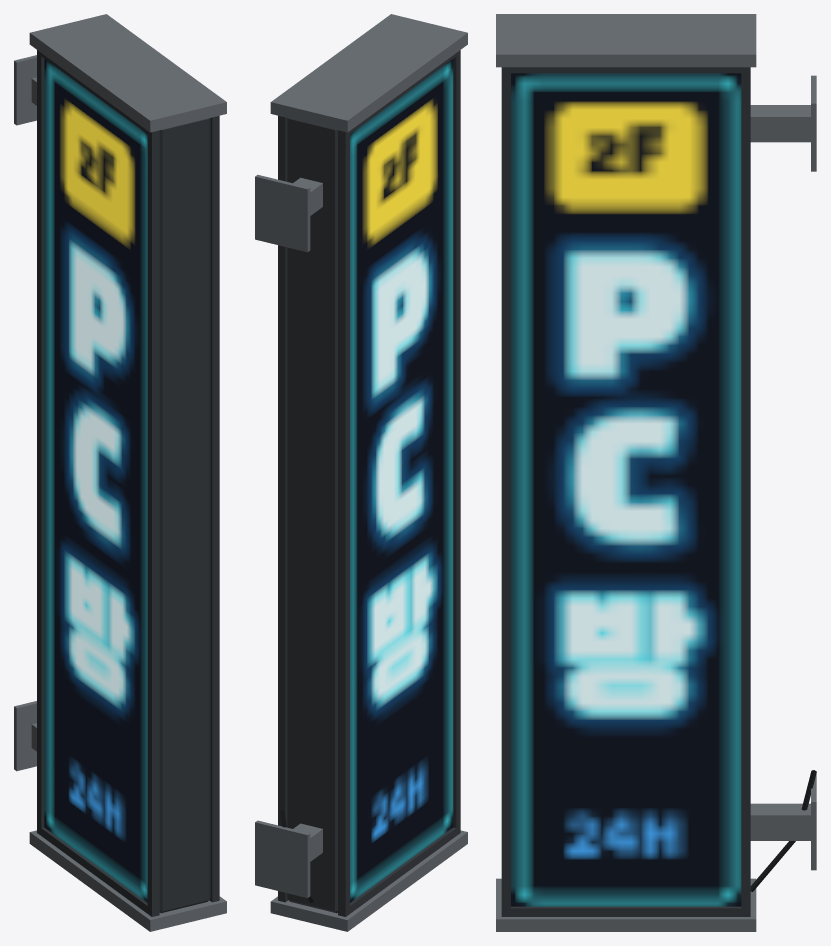
The model's file is SC_Shop_Projecting_Sign_PCBang.gltf.
3 views of the same model, side by side, from view 1: azimuth 30°, elevation 25°; view 2: azimuth 150°, elevation 25°; view 3: azimuth 270°, elevation 25° (orthographic). The views are drawn at different scales.
Parts seen in each view (by area): view 1: SC_Shop_Projecting_Sign_PCBang; view 2: SC_Shop_Projecting_Sign_PCBang; view 3: SC_Shop_Projecting_Sign_PCBang.
Boxes of the visible parts, box(x1,y1,x2,y2) form: SC_Shop_Projecting_Sign_PCBang: box(14, 14, 226, 931); SC_Shop_Projecting_Sign_PCBang: box(255, 14, 467, 931); SC_Shop_Projecting_Sign_PCBang: box(496, 14, 816, 931).
Size of the model in its own units: 0.204 by 2.06 by 0.6828.
2 materials, 2 textured.
